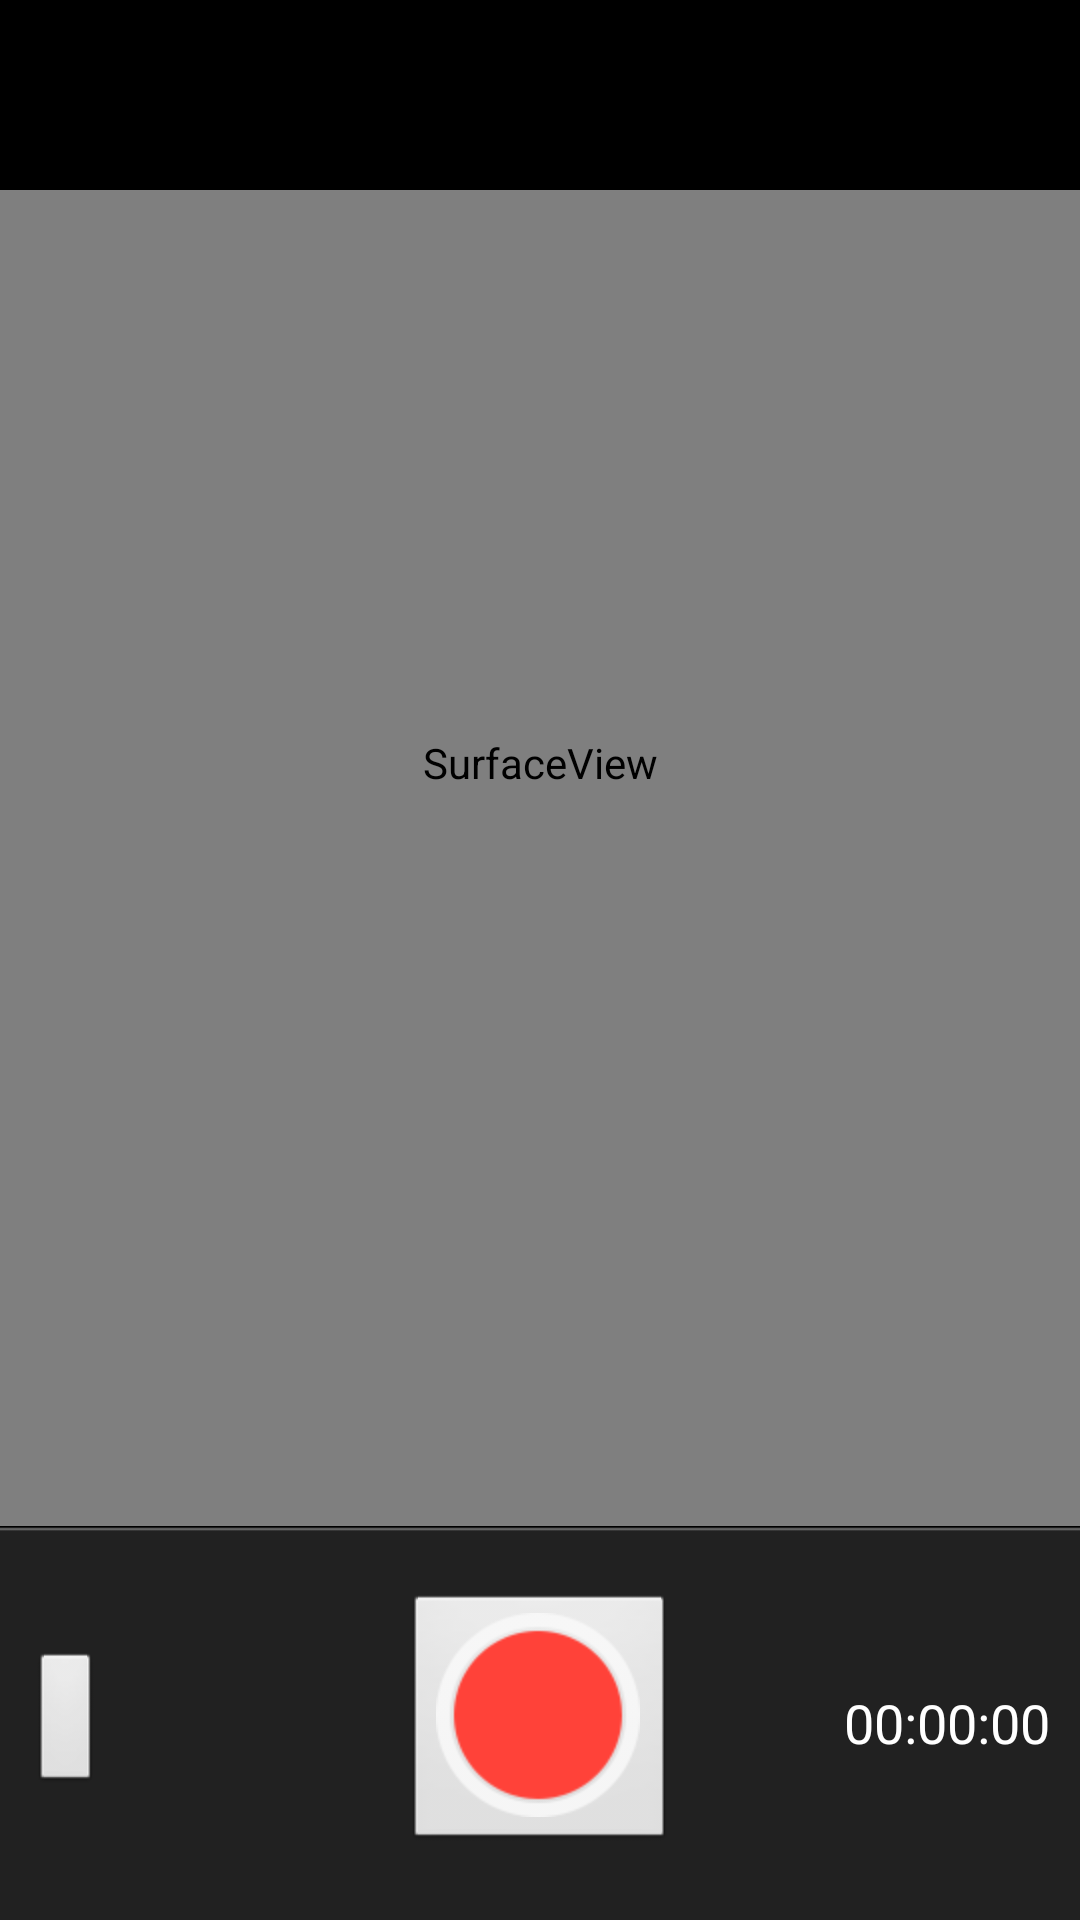

Icon bounding boxes for this 1080*1920 phone screenshot, format BBox(x1, y1, x2, y2):
start: BBox(414, 1596, 664, 1836)
